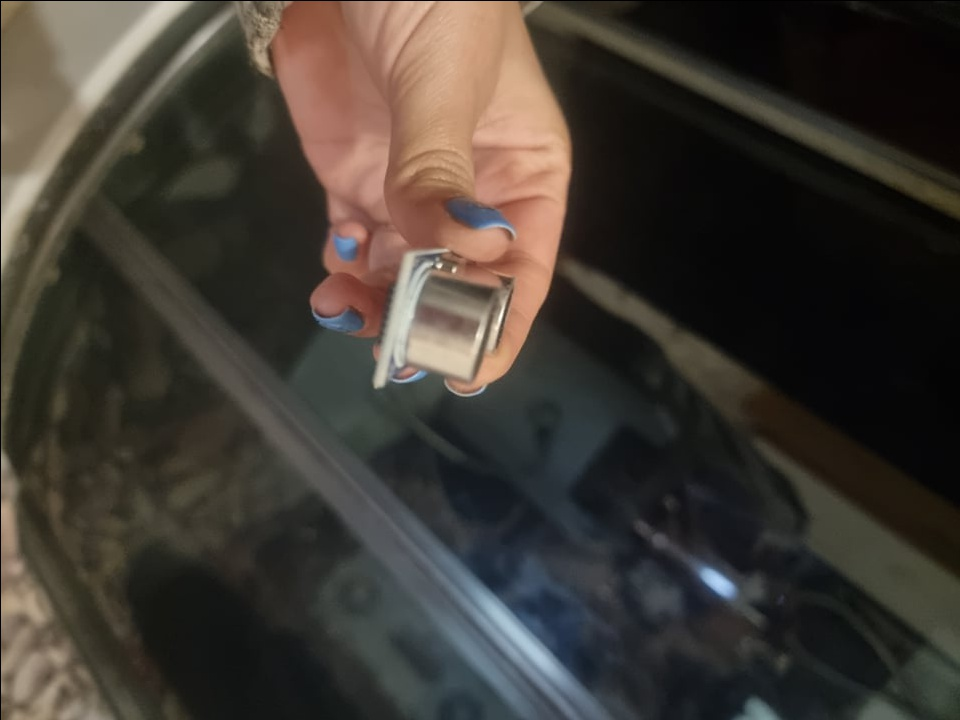SENSOR: (369, 246, 516, 389)
